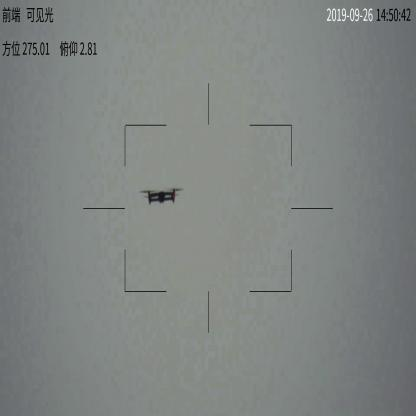uav: (141, 186, 183, 204)
